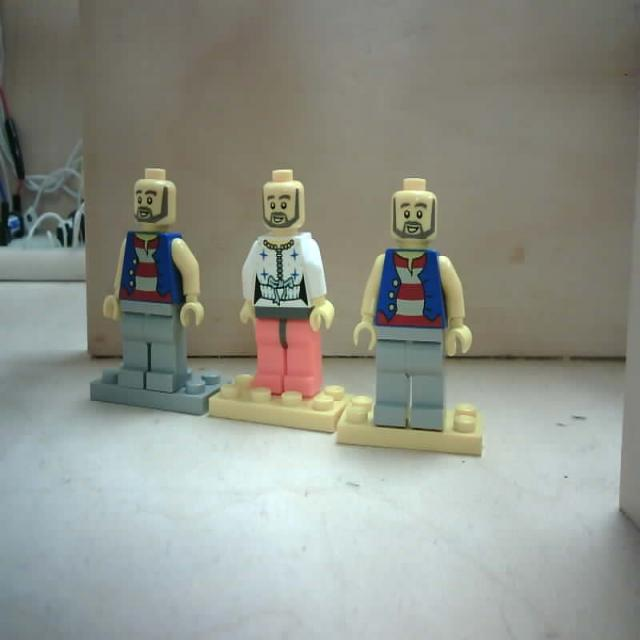Lego-People: (335, 178, 484, 468), (208, 168, 356, 435), (90, 165, 231, 417)
